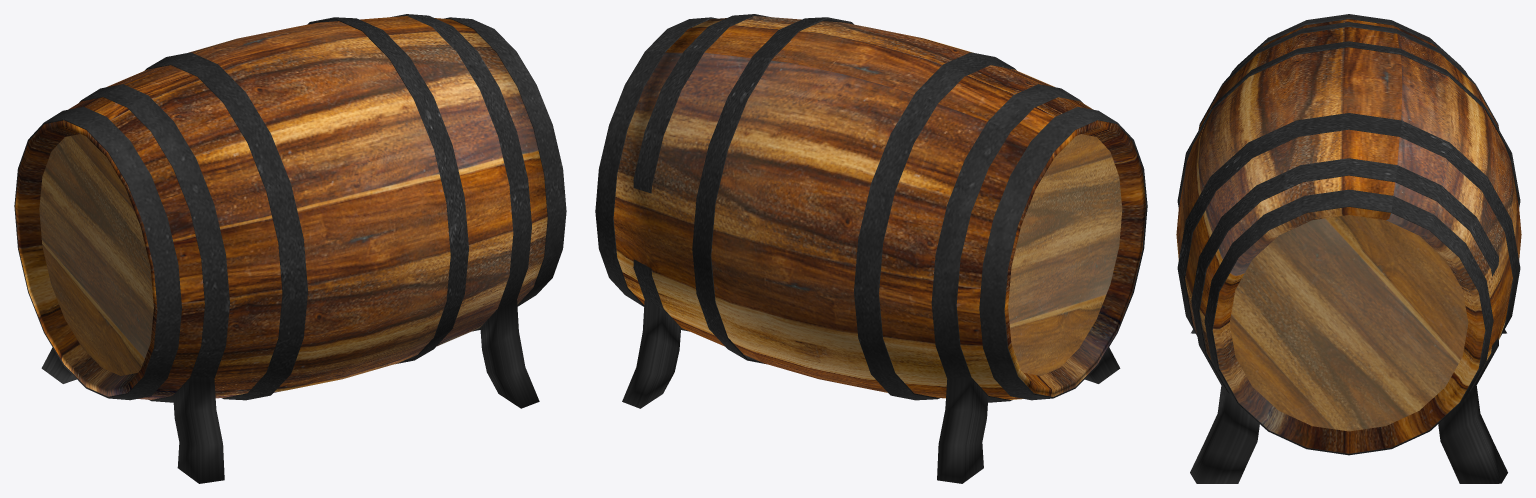
The model's file is Barrel_standing.fbx.
3 renders of one model, left to right at view 1: azimuth 30°, elevation 25°; view 2: azimuth 150°, elevation 25°; view 3: azimuth 270°, elevation 25°, orthographic. The views are drawn at different scales.
Visible parts, largest first — view 1: Barrel_01; view 2: Barrel_01; view 3: Barrel_01.
Part boxes in pixels (<box>): Barrel_01: <box>14,14,566,483</box>; Barrel_01: <box>595,14,1147,483</box>; Barrel_01: <box>1176,14,1521,483</box>.
Size of the model in its own units: 594 by 472 by 452.
